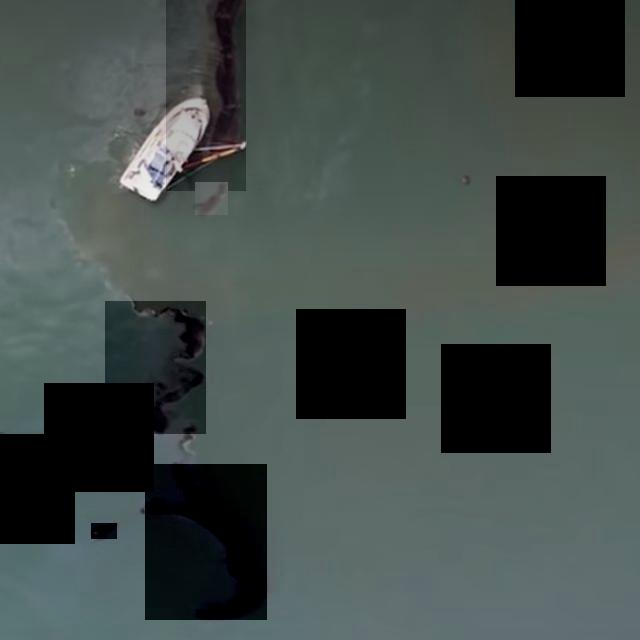oil spill: (145, 465, 267, 620), (167, 1, 246, 191), (105, 301, 206, 434), (195, 183, 228, 215), (91, 523, 117, 539)
